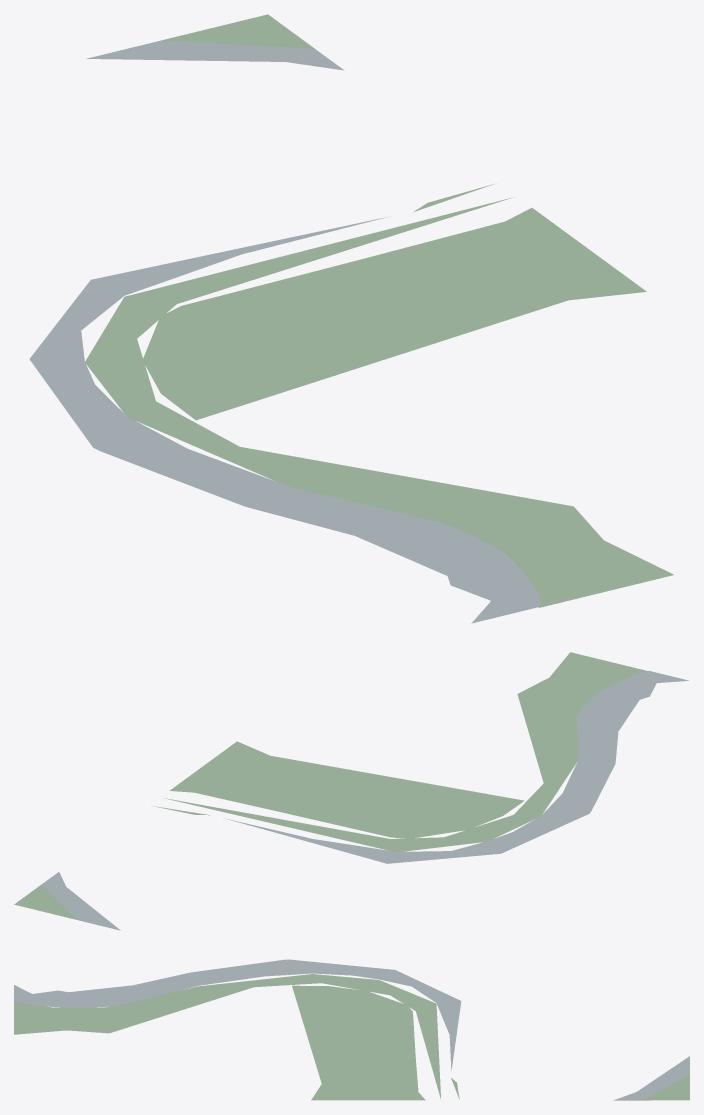
File: 100_83_mid.glb
3 renders of one model, top to bottom at view 1: azimuth 30°, elevation 25°; view 2: azimuth 150°, elevation 25°; view 3: azimuth 270°, elevation 25°, orthographic. The views are drawn at different scales.
Bounding box in the file's own units: 246 × 0.3934 × 500.
